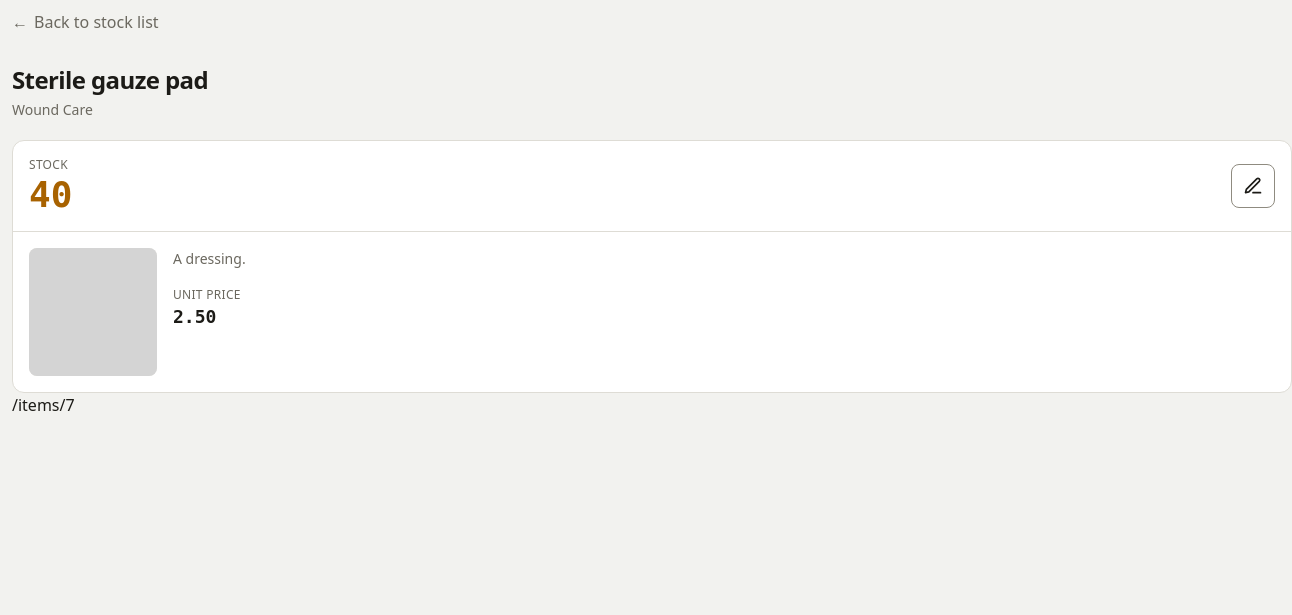
Scenario: StockCorrectionForm › saves a new count and keeps it on screen afterwards
The image size is (1292, 615).
Expected: the heading "Sterile gauze pad" is shown, top-left (12, 63), bottom-right (208, 96)
Click the button named "Correct stock count" at (1253, 186), box top-left (1231, 164), bottom-right (1275, 208)
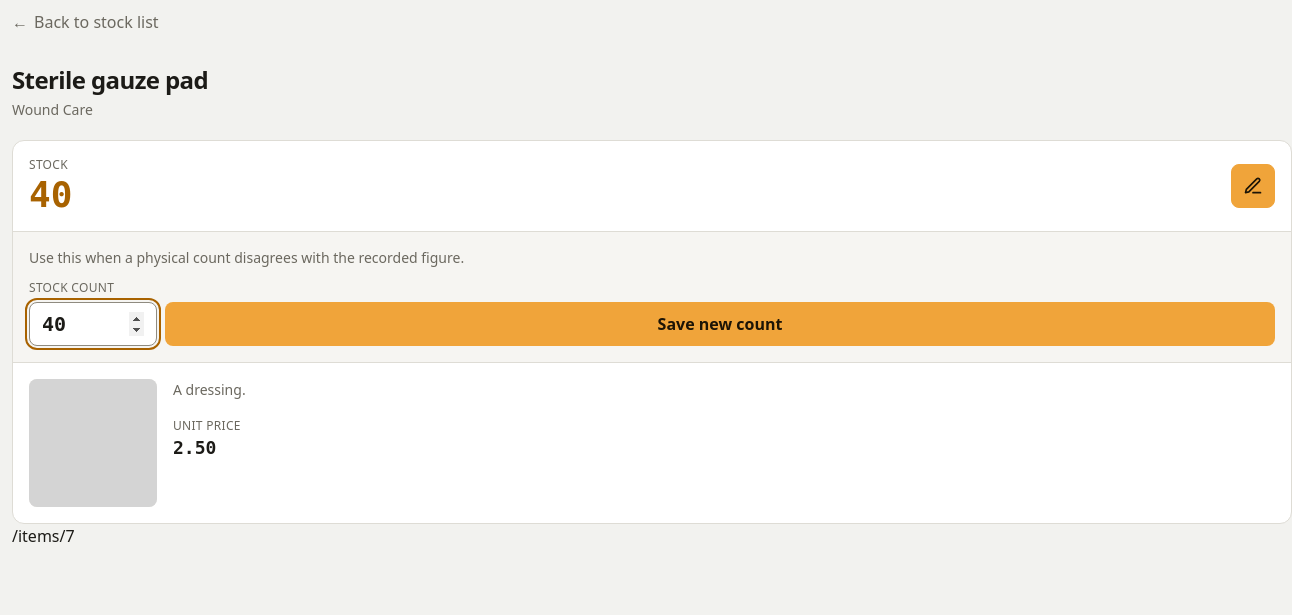
Replace the text in the number field labelled "Stock count" with "37" at (93, 324), box top-left (29, 302), bottom-right (157, 346)
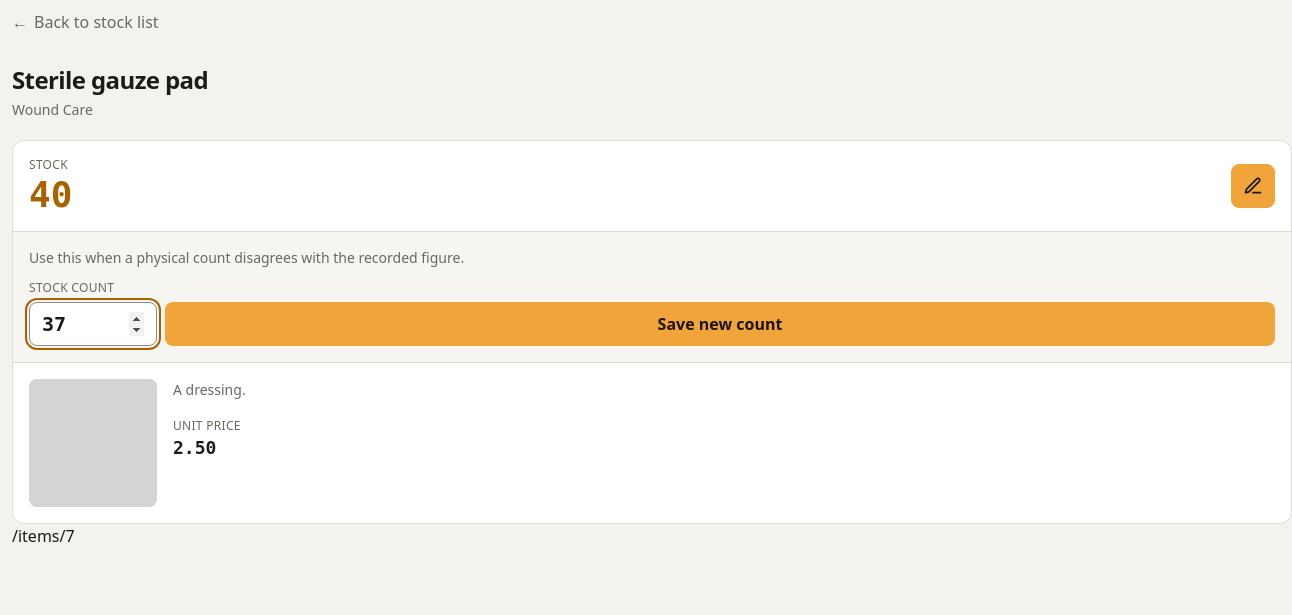
Click the button "Save new count" at (720, 324), box top-left (165, 302), bottom-right (1275, 346)
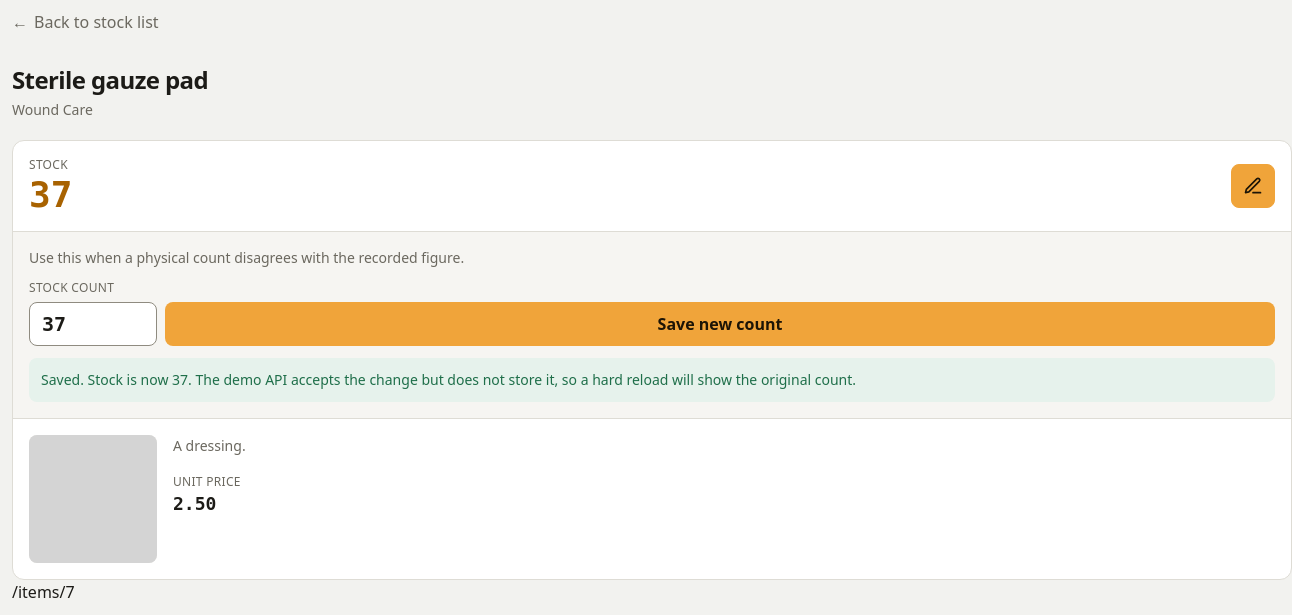
Expected: the message shows "Stock is now 37", top-left (29, 358), bottom-right (1275, 402)
Expected: the text "37" is shown, top-left (29, 175), bottom-right (72, 215)
